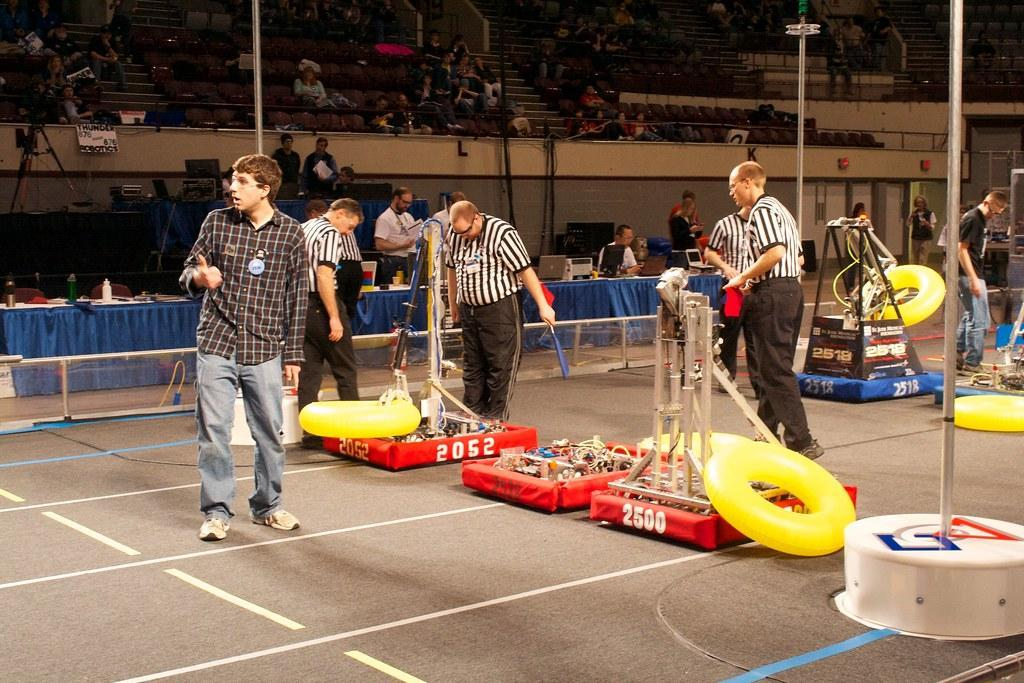robot: (577, 255, 865, 555), (291, 205, 547, 475), (788, 203, 953, 404), (457, 422, 673, 514), (930, 300, 1024, 417)
